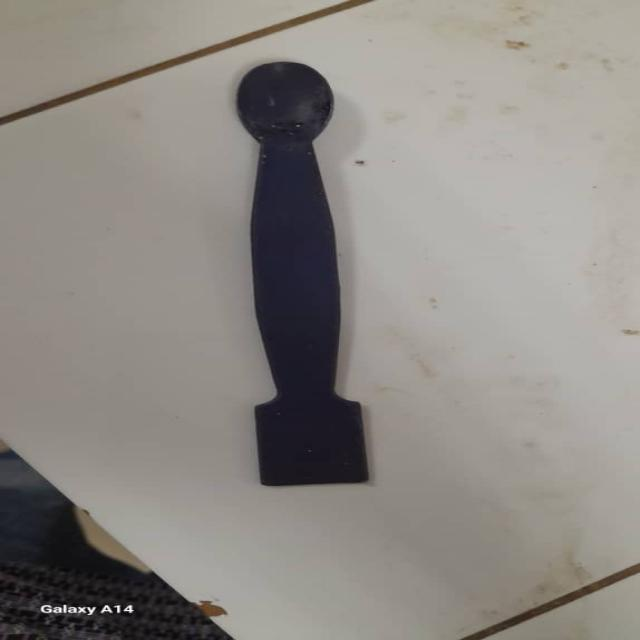Spatula: (232, 58, 378, 492)
